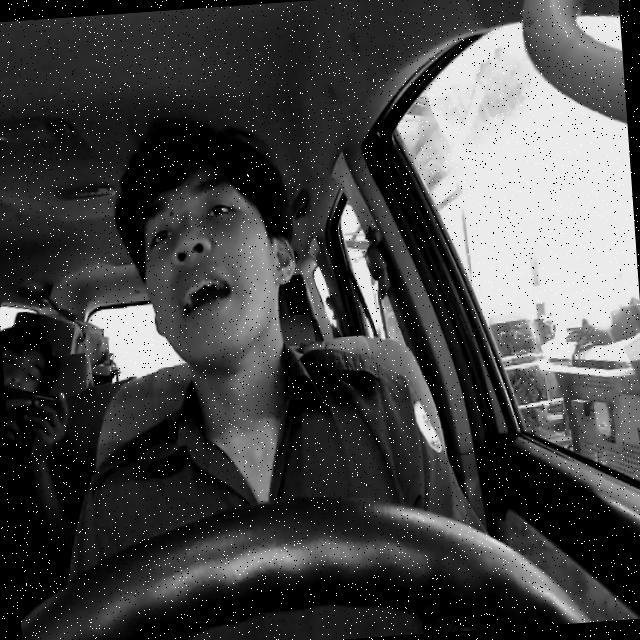yarning: (136, 157, 302, 371)
